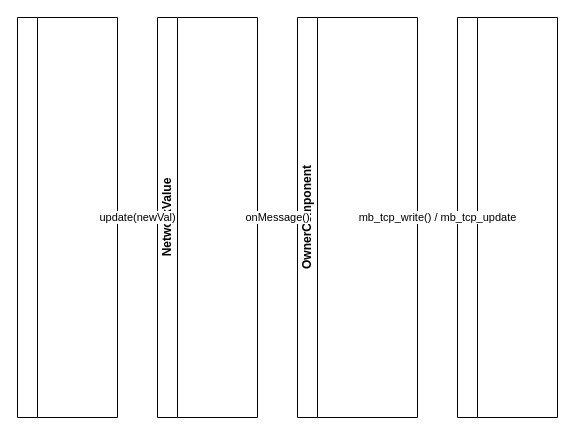
This 575x435 diagram has some shape labels left out. The shapes that lost their labels are listed below. From the top down, each one's box as (x1, y1, x2, y2) in pixels, then its label:
(16, 16, 118, 418): SomeComponent
(456, 16, 558, 418): ModbusTCP
